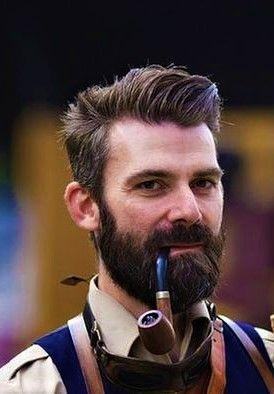trubka: (138, 250, 175, 355)
